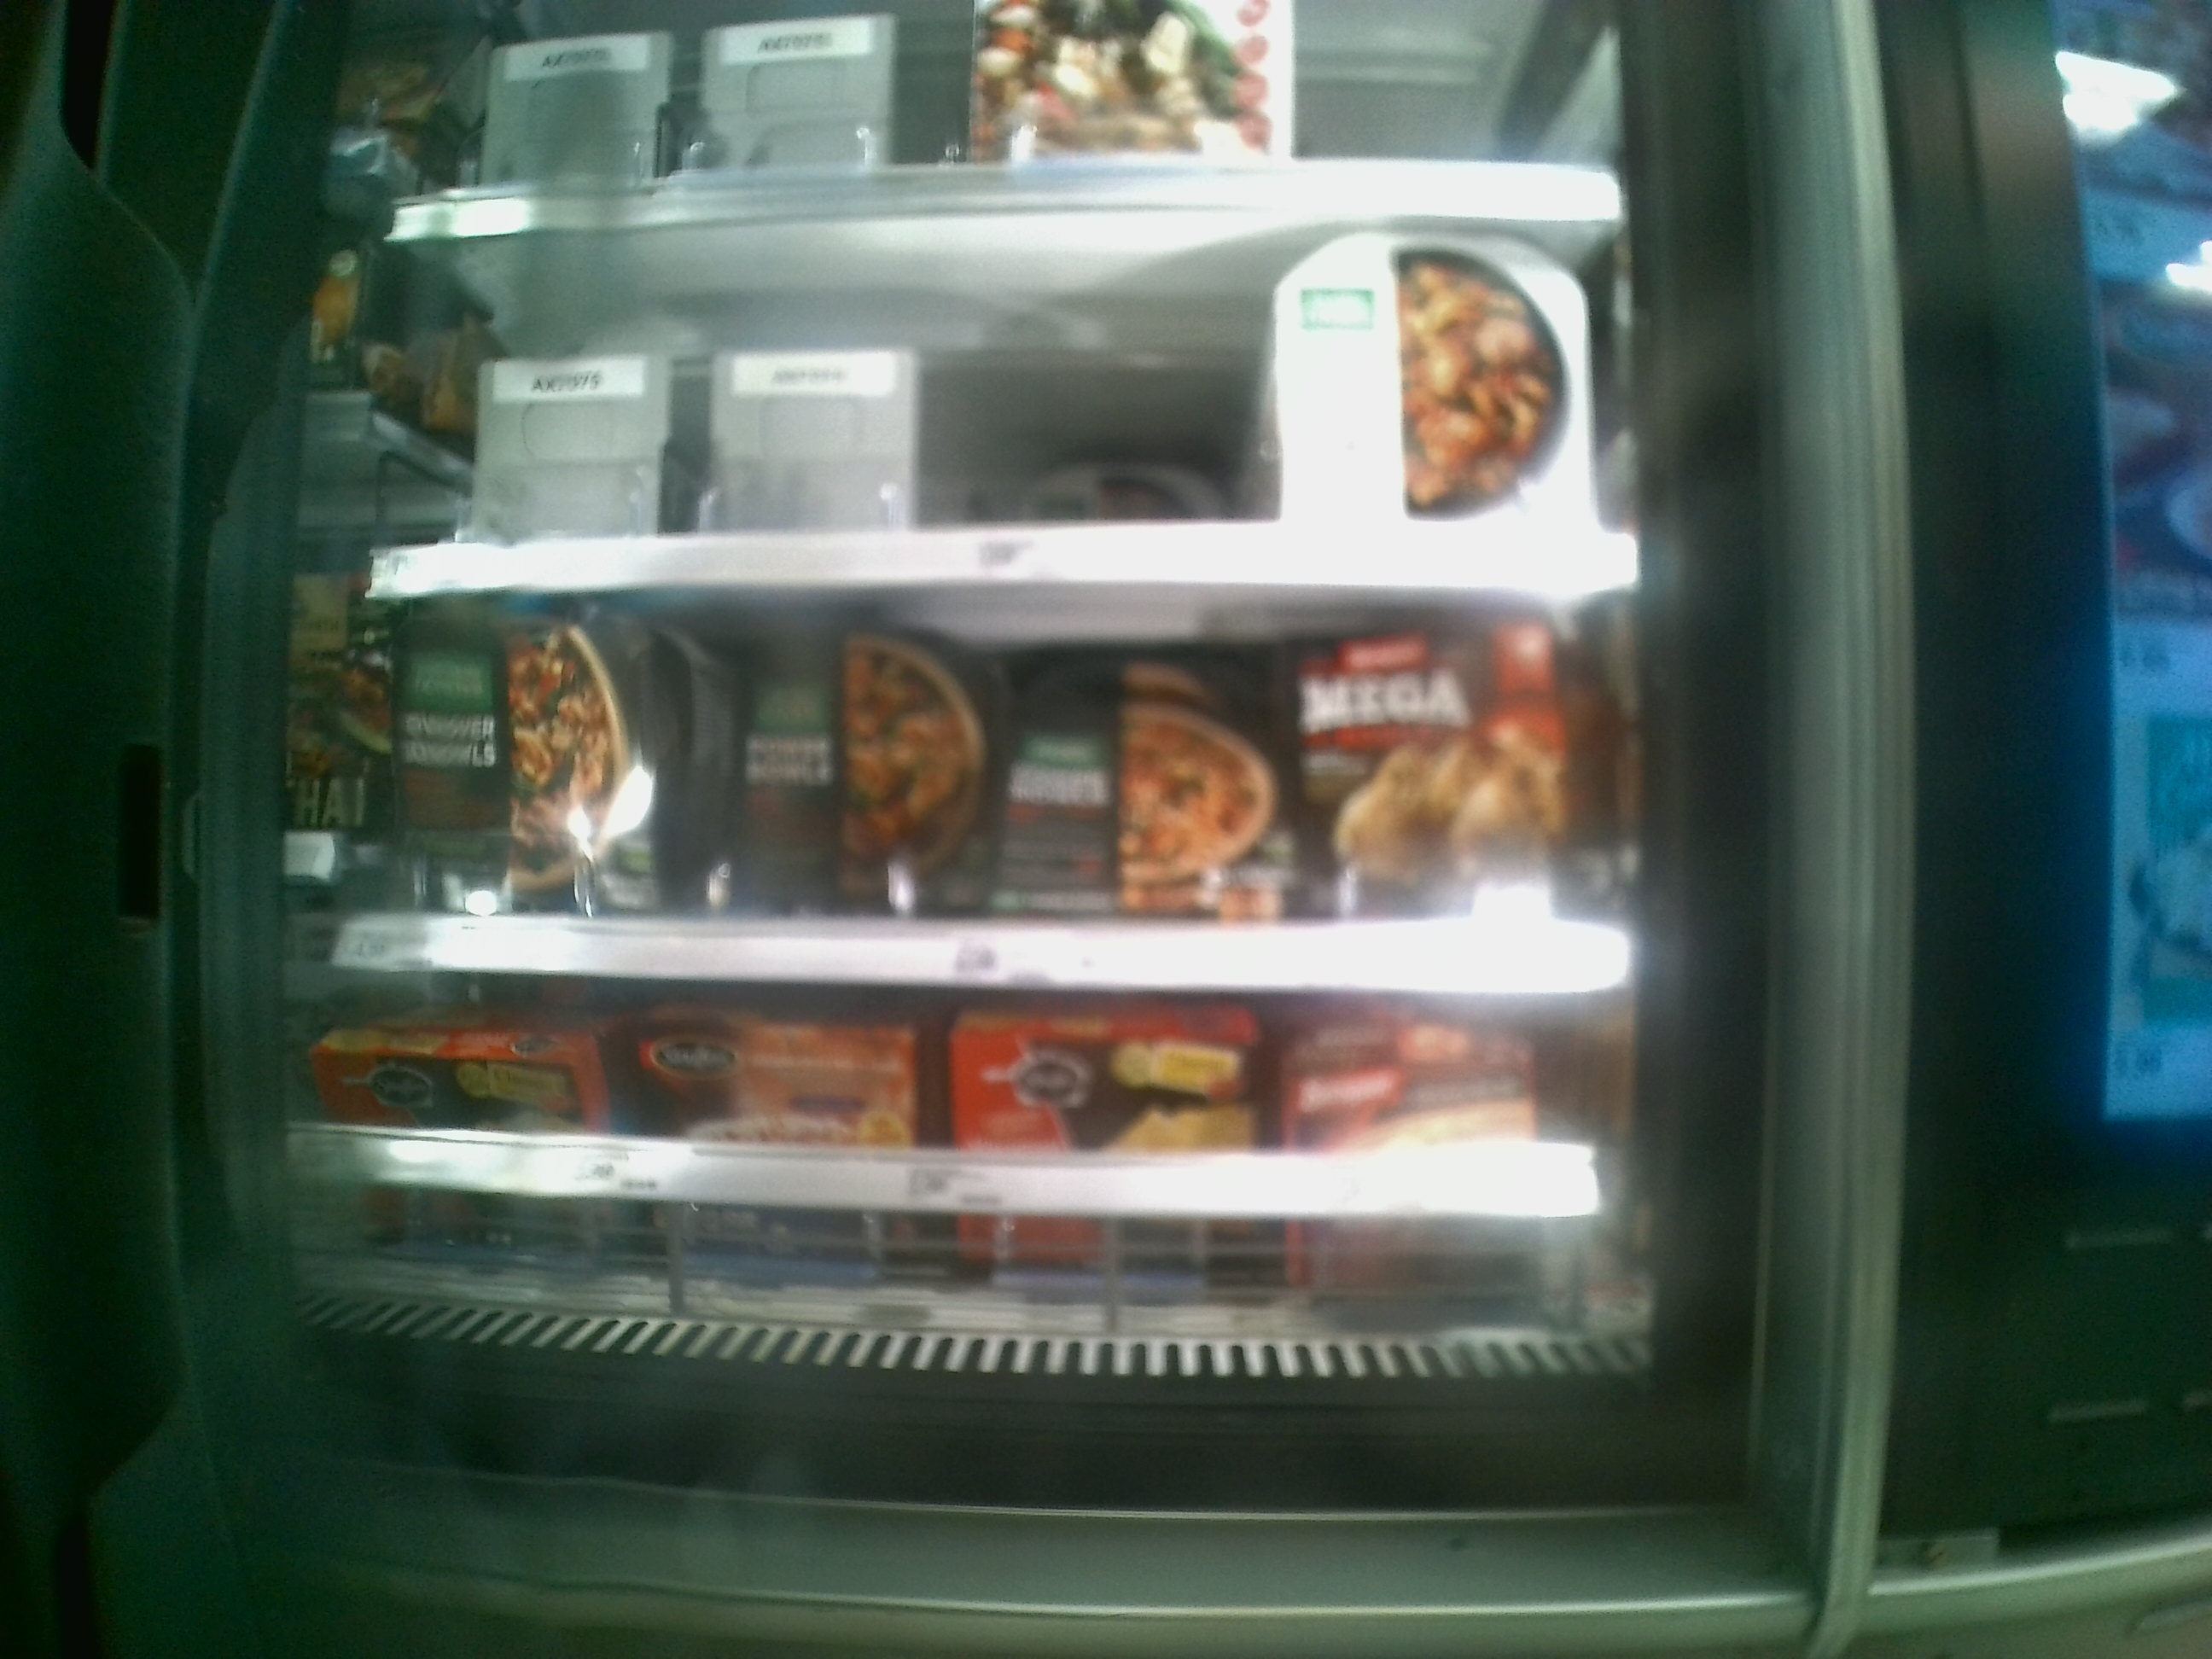shelf: (340, 586, 1630, 995), (347, 211, 1618, 586), (310, 978, 1656, 1331)
